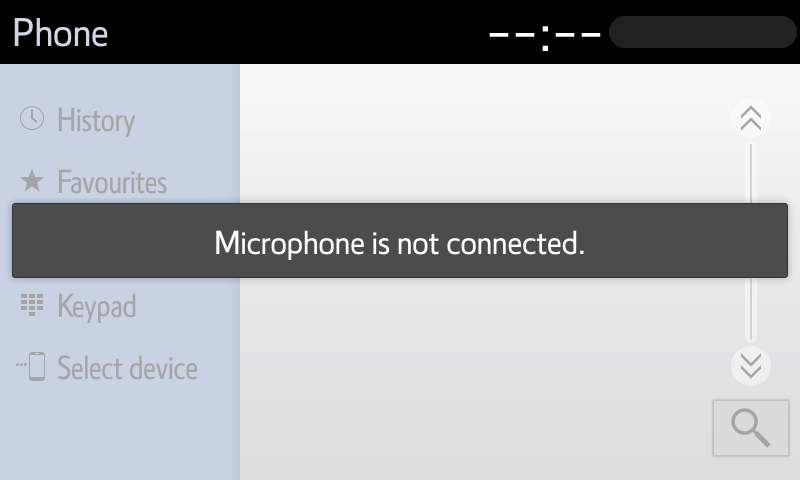untouchPart: (460, 7, 798, 53), (5, 346, 201, 389), (18, 281, 150, 333), (21, 91, 144, 145), (16, 156, 172, 198), (706, 398, 794, 461), (11, 8, 123, 51), (731, 346, 775, 389), (731, 92, 772, 138)
